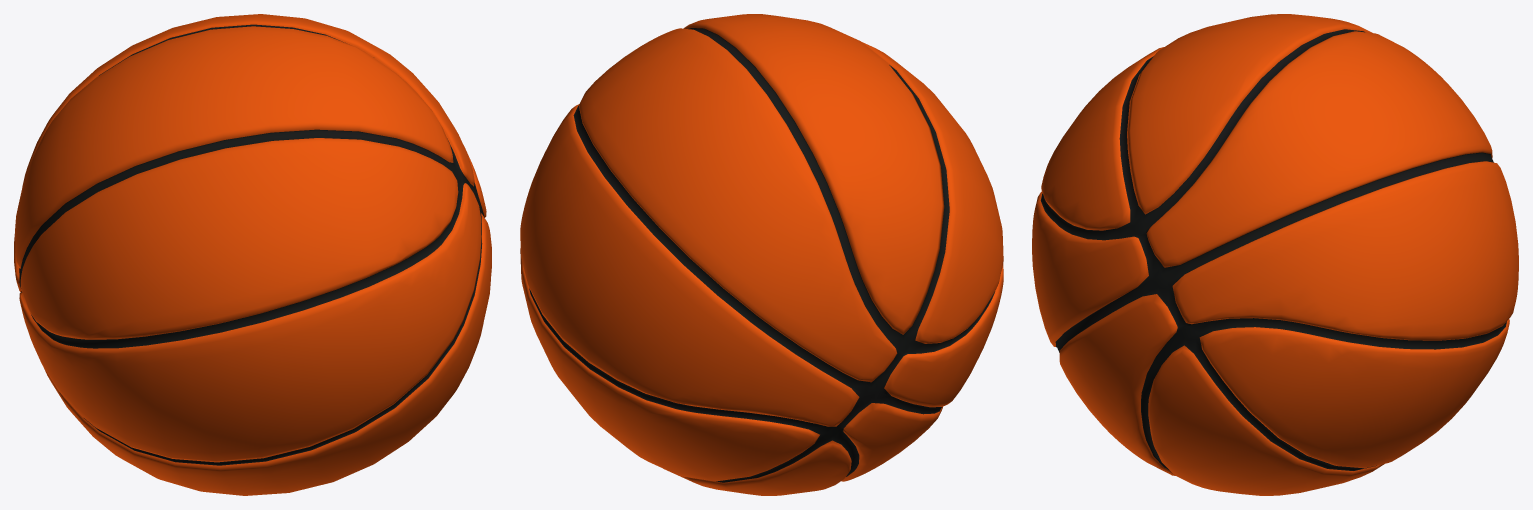
Rendered from DM_basket_ball.fbx.
The picture shows the model from 3 angles, left to right: view 1: azimuth 30°, elevation 25°; view 2: azimuth 150°, elevation 25°; view 3: azimuth 270°, elevation 25°; orthographic projection.
Visible parts, largest first — view 1: DM_basket_ball; view 2: DM_basket_ball; view 3: DM_basket_ball.
Boxes of the visible parts, bbox=[...] form: DM_basket_ball: bbox=[14, 14, 491, 495]; DM_basket_ball: bbox=[520, 14, 1003, 495]; DM_basket_ball: bbox=[1032, 14, 1518, 495].
Size of the model in its own units: 0.2464 by 0.2469 by 0.2466.
